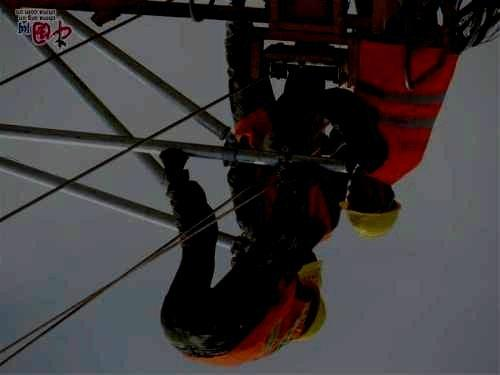helmet: (339, 174, 403, 242), (290, 281, 328, 344), (296, 250, 324, 290)
